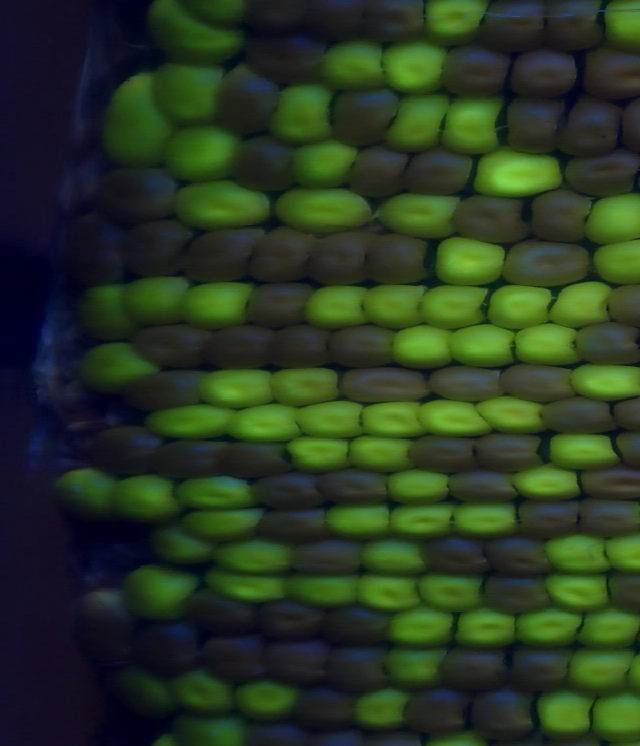fluorescent: (139, 1, 250, 65), (98, 73, 172, 163), (469, 145, 568, 201), (173, 179, 276, 231), (272, 182, 371, 234), (371, 189, 463, 241), (151, 61, 226, 122), (163, 117, 238, 178), (430, 230, 511, 286), (180, 274, 258, 329), (270, 81, 339, 143), (289, 138, 367, 191), (386, 93, 453, 153), (111, 472, 186, 525), (415, 279, 489, 332), (213, 534, 300, 579), (506, 604, 588, 651), (446, 323, 523, 373), (477, 390, 547, 445), (123, 565, 197, 617), (448, 604, 526, 653), (186, 498, 269, 544), (53, 466, 121, 522), (438, 92, 500, 153), (565, 644, 635, 698), (109, 665, 179, 719), (119, 277, 199, 324), (543, 429, 624, 475), (299, 280, 376, 328), (361, 280, 432, 332), (381, 320, 454, 370), (81, 339, 159, 385), (508, 322, 586, 368), (381, 39, 449, 91), (169, 669, 239, 719), (139, 401, 236, 437), (321, 39, 389, 90), (416, 396, 497, 438), (78, 284, 146, 334), (533, 687, 601, 737), (507, 463, 586, 506), (357, 394, 429, 441), (195, 367, 283, 405), (567, 357, 640, 402), (354, 566, 425, 612), (489, 280, 554, 330), (574, 602, 640, 651), (231, 678, 301, 724), (353, 684, 413, 736), (552, 283, 621, 328), (449, 498, 521, 541), (586, 689, 640, 746), (343, 434, 418, 475), (384, 497, 457, 539), (270, 358, 338, 403), (423, 1, 488, 48), (543, 569, 610, 614), (326, 498, 397, 540), (357, 535, 433, 574), (546, 527, 609, 574), (581, 192, 640, 242), (154, 519, 215, 567), (382, 643, 447, 688), (170, 471, 249, 508), (388, 466, 459, 507), (222, 403, 305, 438), (217, 568, 291, 607), (284, 573, 366, 608), (387, 607, 457, 648), (175, 711, 257, 746), (283, 435, 350, 473), (418, 571, 481, 611), (296, 402, 366, 437), (589, 237, 640, 281), (176, 1, 248, 31), (602, 1, 640, 56), (599, 530, 640, 576)
nonfluorescent: (181, 227, 268, 284), (499, 237, 595, 288), (471, 1, 552, 59), (63, 213, 124, 289), (466, 685, 544, 744), (431, 637, 511, 694), (476, 571, 557, 624), (125, 220, 199, 278), (242, 33, 334, 79), (95, 169, 186, 215), (80, 589, 132, 668), (216, 67, 280, 131), (183, 583, 266, 632), (362, 230, 432, 288), (330, 92, 405, 146), (325, 635, 393, 694), (197, 632, 274, 684), (200, 324, 280, 374), (263, 635, 333, 692), (336, 361, 428, 404), (505, 93, 568, 155), (450, 195, 526, 246), (256, 593, 332, 644), (504, 50, 586, 97), (129, 322, 218, 365), (558, 103, 628, 157), (400, 683, 469, 737), (90, 423, 160, 476), (537, 392, 614, 439), (526, 188, 589, 244), (132, 627, 204, 676), (264, 322, 337, 370), (120, 372, 209, 411), (402, 146, 479, 191), (250, 228, 315, 281), (562, 151, 640, 195), (152, 435, 230, 479), (234, 134, 294, 191), (307, 228, 369, 283), (481, 534, 556, 579), (320, 603, 401, 644), (506, 645, 572, 695), (468, 428, 544, 471), (296, 684, 364, 732), (510, 498, 584, 542), (573, 318, 640, 366), (577, 47, 640, 98), (243, 281, 316, 325), (442, 46, 510, 93), (313, 466, 389, 508), (357, 1, 431, 44), (331, 321, 400, 367), (497, 361, 576, 401), (548, 1, 606, 54), (422, 363, 505, 400), (306, 1, 380, 42), (295, 536, 370, 576), (417, 535, 491, 575), (349, 148, 409, 197), (219, 439, 296, 477), (572, 497, 640, 538), (410, 434, 481, 473), (450, 469, 521, 508), (251, 470, 321, 507), (260, 509, 328, 546), (573, 466, 640, 502), (253, 1, 311, 35), (601, 569, 640, 613), (603, 284, 640, 326), (248, 719, 302, 746), (606, 397, 640, 435), (298, 725, 359, 746)
